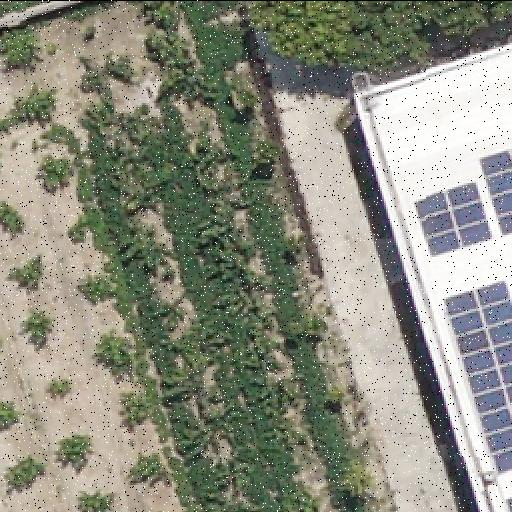solar-panel: (440, 278, 512, 474), (413, 177, 491, 255), (476, 147, 512, 237), (504, 496, 512, 512)
